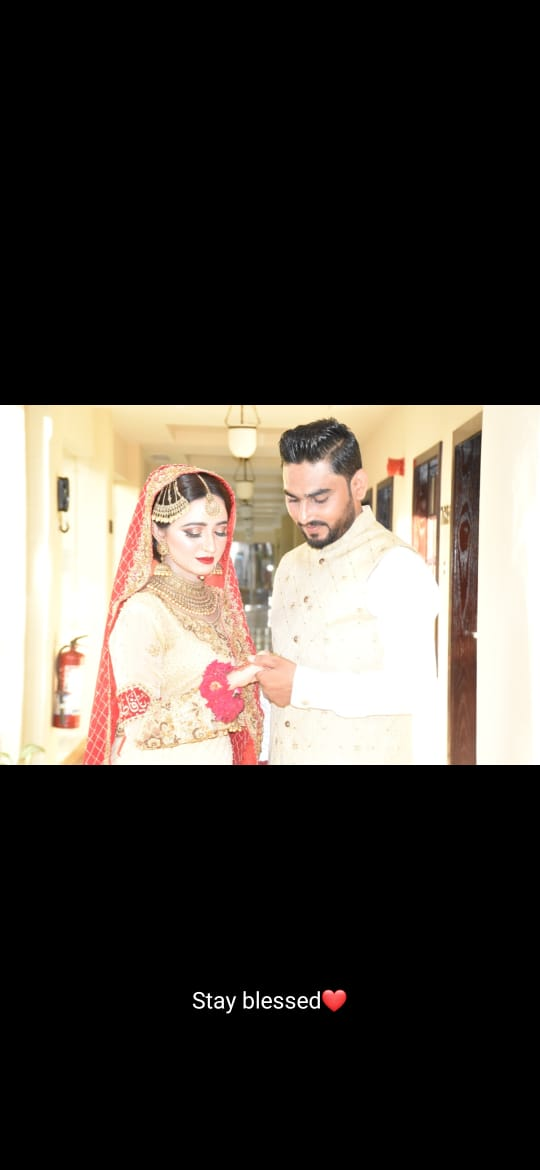NoMask: (285, 483, 342, 548), (179, 515, 227, 573)
